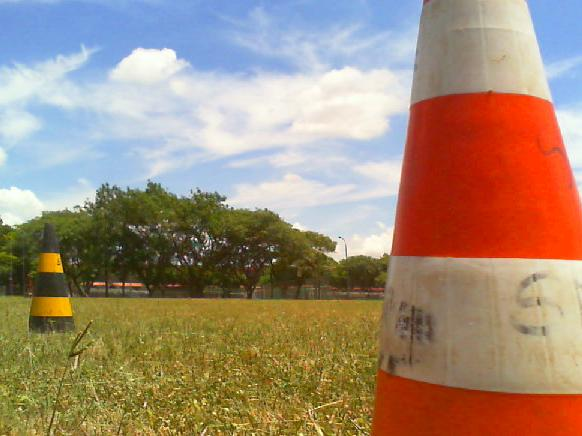0 cone: (365, 0, 582, 436), (29, 222, 76, 334)
